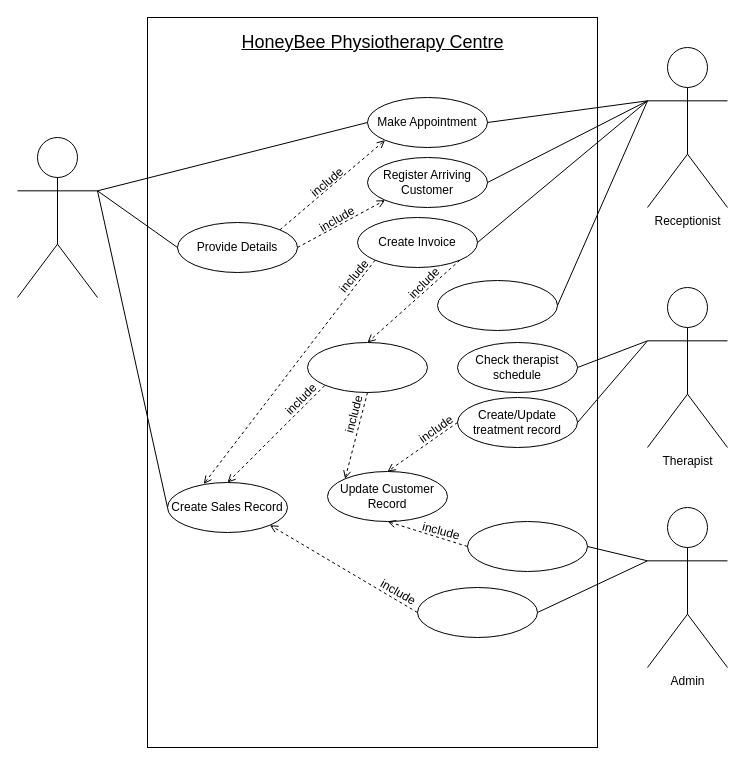
The diagram is 745 pixels wide and 765 high, and some of its shapes have lost their labels. The centre of each missing label's shape, as x and y in pixels:
"Customer" goes at [57,217].
"Pay Invoice" goes at [367,367].
"Update Therapist Schedule" goes at [497,305].
"View customer record" goes at [527,546].
"View sales record" goes at [477,612].
